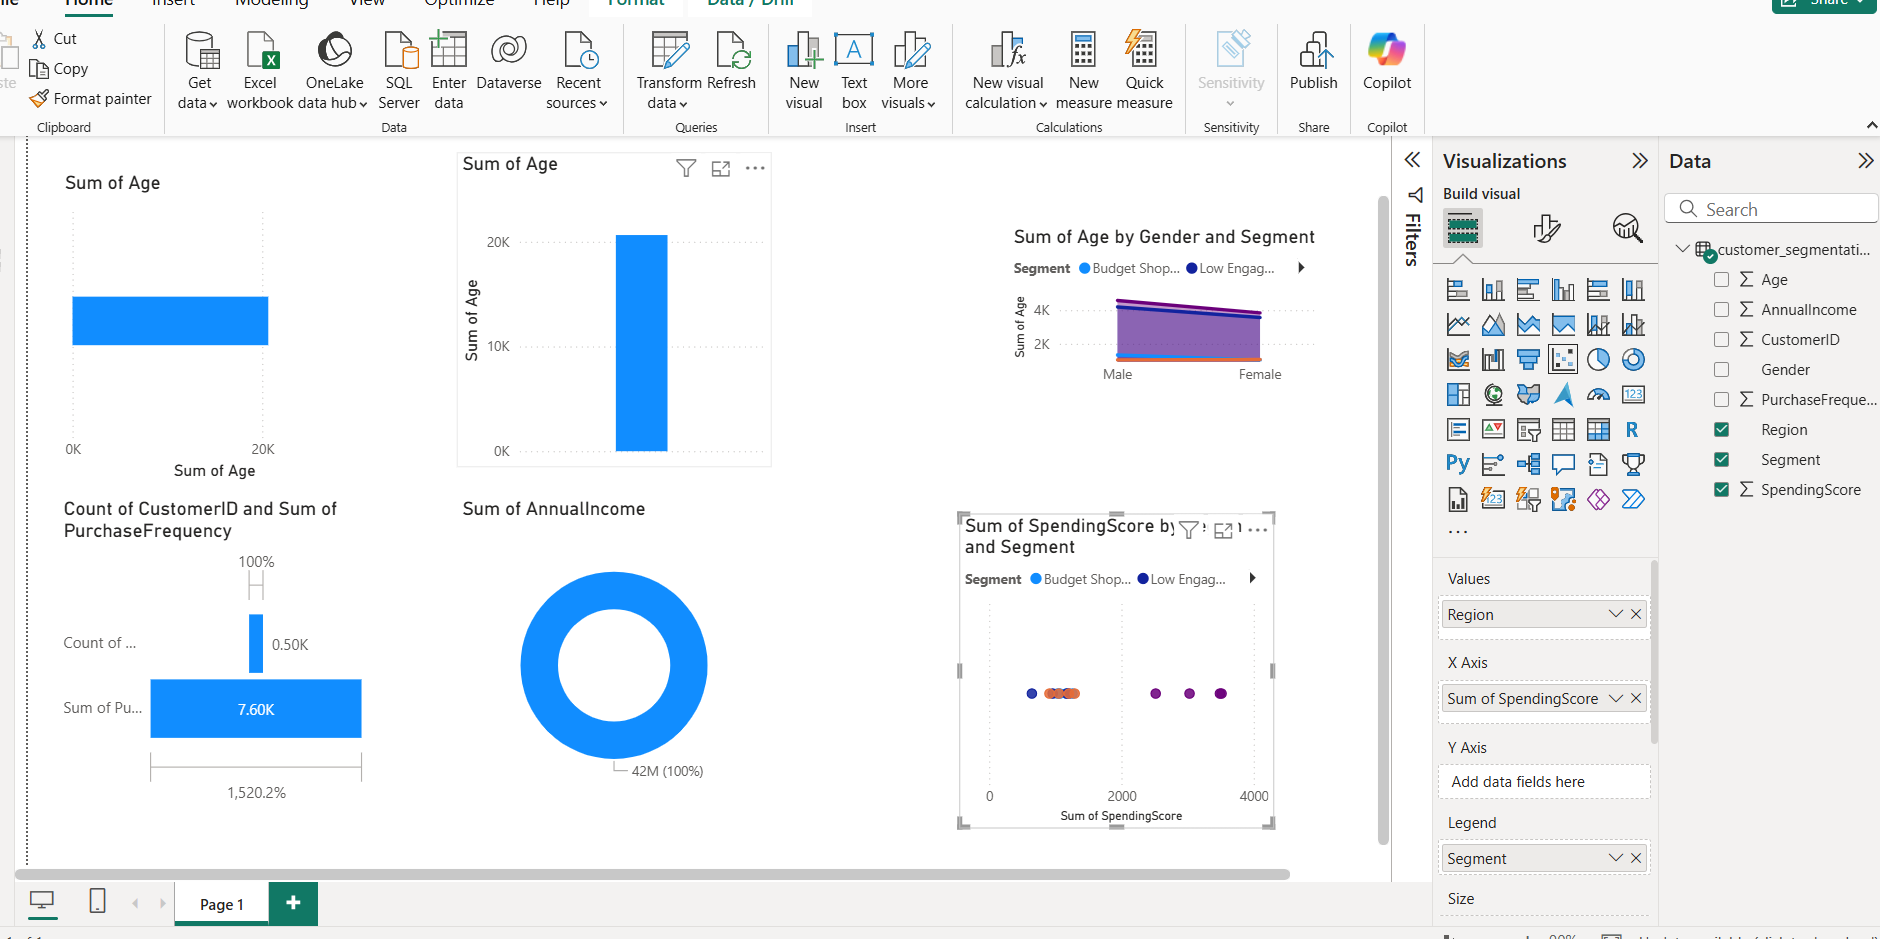

Layout of this report page (visuals, bound fields, positions):
{"tool":"powerbi","page":{"name":"Page 1","canvas":[1280,720],"ordinal":0},"visuals":[{"type":"barChart","fields":{"Y":["Sum(customer_segmentation_dataset.Age)"]},"box":[27.4,79.6,279.9,279.9],"z":0},{"type":"clusteredColumnChart","fields":{"Y":["Sum(customer_segmentation_dataset.Age)"]},"box":[381.5,63.1,279.9,279.9],"z":1},{"type":"areaChart","fields":{"Category":["customer_segmentation_dataset.Gender"],"Y":["Sum(customer_segmentation_dataset.Age)"],"Series":["customer_segmentation_dataset.Segment"]},"box":[871.4,127.6,279.9,150.9],"z":2},{"type":"funnel","fields":{"Y":["CountNonNull(customer_segmentation_dataset.CustomerID)","Sum(customer_segmentation_dataset.PurchaseFrequency)"]},"box":[27,370,280,280],"z":3},{"type":"donutChart","fields":{"Y":["Sum(customer_segmentation_dataset.AnnualIncome)"]},"box":[381,370,280,280],"z":4},{"type":"scatterChart","fields":{"Category":["customer_segmentation_dataset.Region"],"X":["Sum(customer_segmentation_dataset.SpendingScore)"],"Series":["customer_segmentation_dataset.Segment"]},"box":[827.4,384.2,279.9,279.9],"z":5}]}

Visuals, with their boxes on the page's 1280x720 design canvas (x1, y1, x2, y2). These are canvas units, not pixel positions in the 1880x939 screenshot, which may show the page scaled, cropped or inside an application window:
barChart - Sum(customer_segmentation_dataset.Age): rect(27, 80, 307, 360)
clusteredColumnChart - Sum(customer_segmentation_dataset.Age): rect(382, 63, 661, 343)
areaChart - customer_segmentation_dataset.Gender x Sum(customer_segmentation_dataset.Age): rect(871, 128, 1151, 278)
funnel - CountNonNull(customer_segmentation_dataset.CustomerID) x Sum(customer_segmentation_dataset.PurchaseFrequency): rect(27, 370, 307, 650)
donutChart - Sum(customer_segmentation_dataset.AnnualIncome): rect(381, 370, 661, 650)
scatterChart - customer_segmentation_dataset.Region x Sum(customer_segmentation_dataset.SpendingScore): rect(827, 384, 1107, 664)
